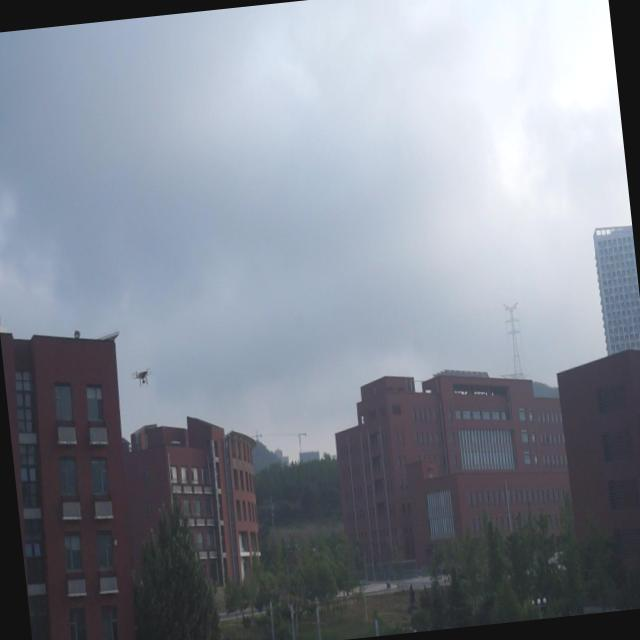drone: (130, 364, 154, 391)
